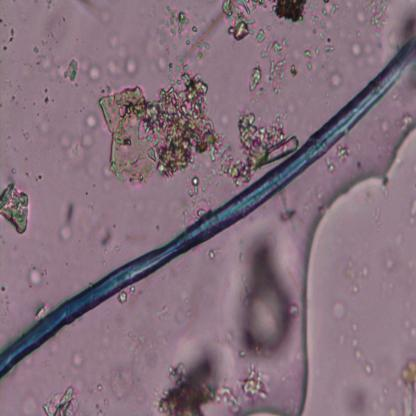Air bubble: (297, 113, 416, 416)
Background material: (96, 73, 227, 185), (233, 227, 304, 365), (154, 342, 236, 415), (226, 107, 300, 180), (221, 0, 268, 48), (151, 296, 191, 343), (262, 36, 290, 99), (156, 7, 197, 48), (169, 34, 210, 74), (0, 179, 29, 235), (107, 369, 148, 405), (104, 35, 137, 79), (354, 0, 389, 41), (348, 321, 373, 376), (312, 0, 336, 56), (40, 52, 81, 84), (238, 360, 267, 404), (56, 130, 87, 166), (379, 246, 404, 290), (340, 376, 370, 412), (45, 385, 80, 415), (398, 357, 416, 415), (185, 174, 210, 215), (274, 0, 310, 28), (344, 258, 368, 295), (0, 9, 20, 50), (75, 0, 108, 24), (124, 330, 146, 365), (247, 64, 266, 104), (58, 203, 77, 243), (327, 145, 352, 173), (353, 41, 378, 68), (95, 220, 114, 254), (82, 109, 98, 147), (300, 43, 320, 71), (400, 310, 416, 344), (78, 59, 102, 80), (328, 299, 349, 323), (203, 244, 221, 267), (276, 206, 301, 222), (397, 112, 416, 133), (29, 262, 43, 287), (377, 116, 393, 137), (71, 347, 85, 371), (41, 90, 56, 108), (18, 125, 31, 144), (26, 40, 43, 54), (330, 72, 344, 88), (118, 290, 131, 305), (40, 122, 50, 140), (35, 305, 45, 319), (36, 173, 44, 188)
Microfibre: (0, 37, 416, 378)
